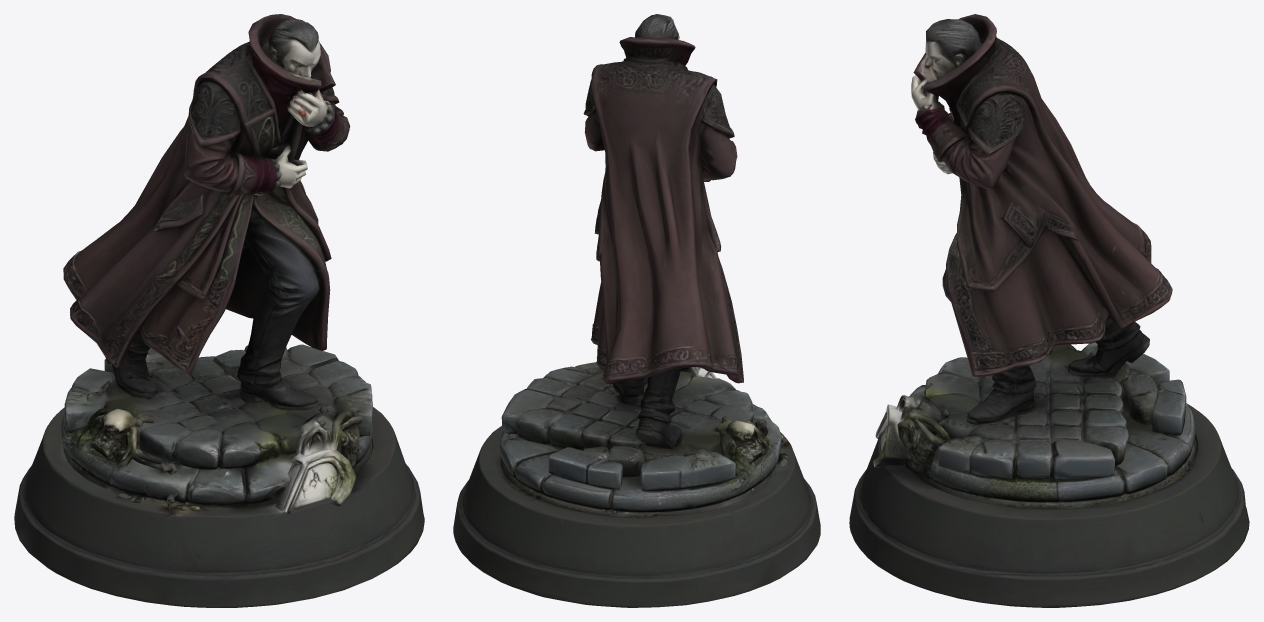
Rendered from dracula.far.glb.
The picture shows the model from 3 angles, left to right: view 1: azimuth 30°, elevation 25°; view 2: azimuth 150°, elevation 25°; view 3: azimuth 270°, elevation 25°; orthographic projection. The views are drawn at different scales.
Visible parts, largest first — view 1: dracula; view 2: dracula; view 3: dracula.
Boxes of the visible parts, <box> form: dracula: <box>14,14,424,607</box>; dracula: <box>453,14,820,607</box>; dracula: <box>849,14,1249,607</box>.
Bounding box in the file's own units: 0.6884 × 0.9841 × 0.6909.
Materials: 1 (1 with a texture image).
